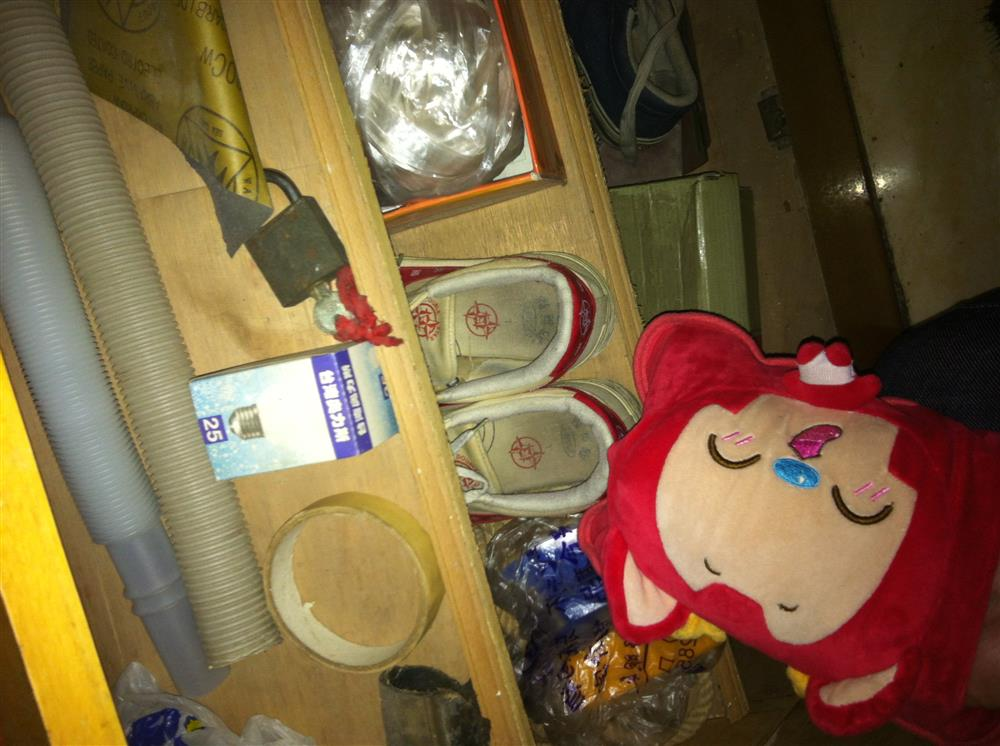Ali: (589, 324, 978, 724)
